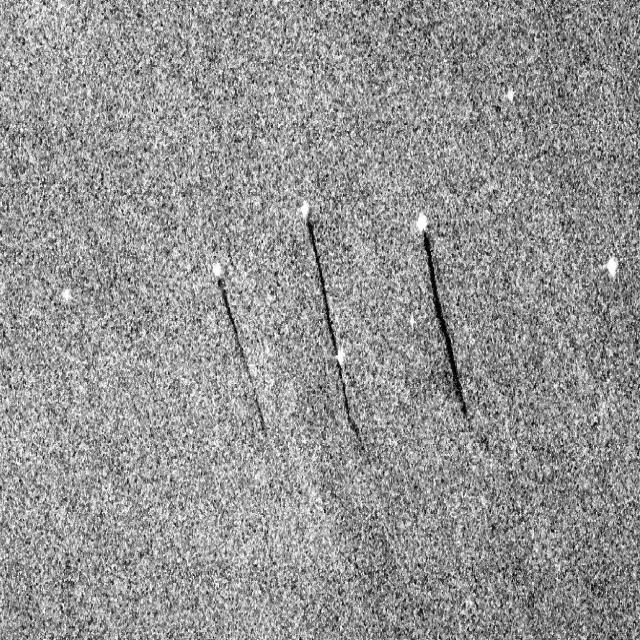oil-spill: (420, 232, 471, 421), (217, 288, 273, 442), (306, 228, 341, 351), (336, 367, 366, 448)
ship: (408, 200, 434, 242), (596, 247, 625, 283), (296, 186, 315, 230), (334, 340, 350, 368), (56, 285, 74, 309), (209, 257, 224, 283), (505, 80, 517, 108)
